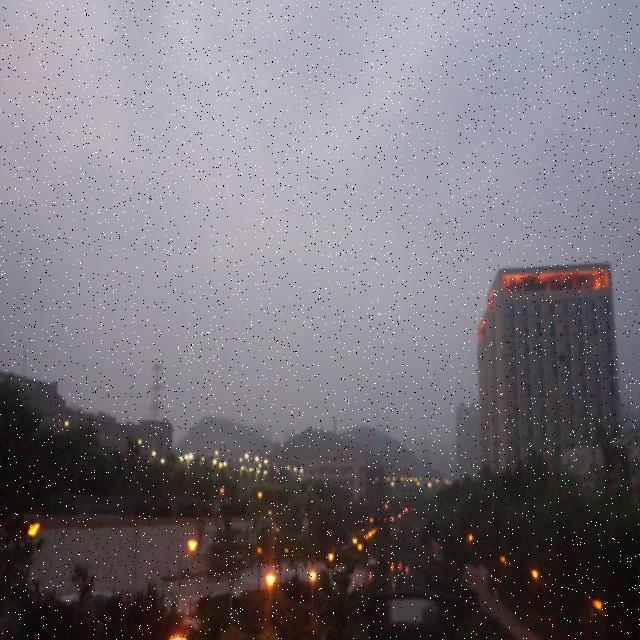UAV: (556, 352, 568, 363)
